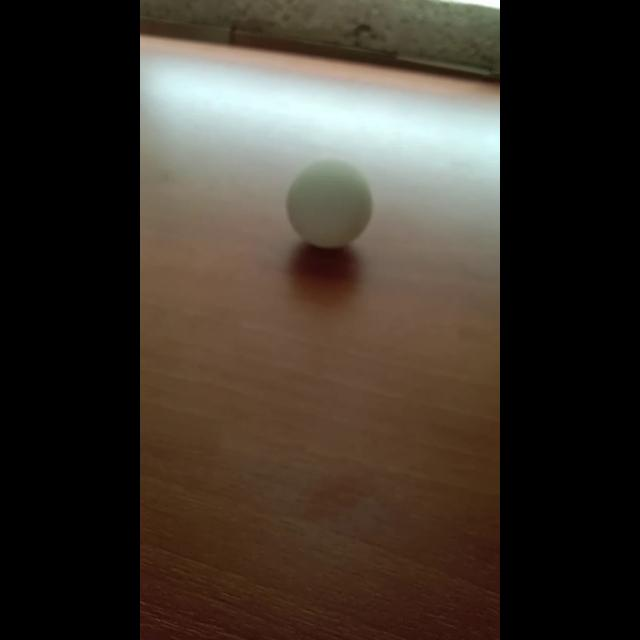white ball: (285, 157, 373, 249)
